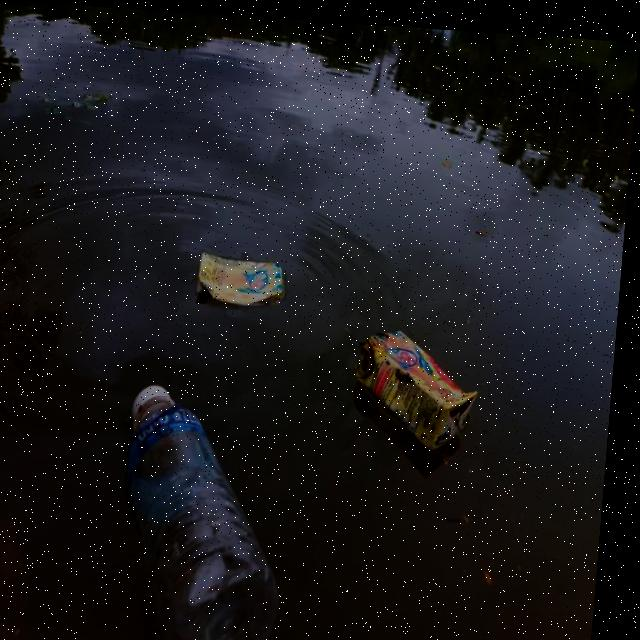paper: (355, 323, 496, 441), (190, 235, 304, 317)
waterbottle: (108, 363, 304, 640)
